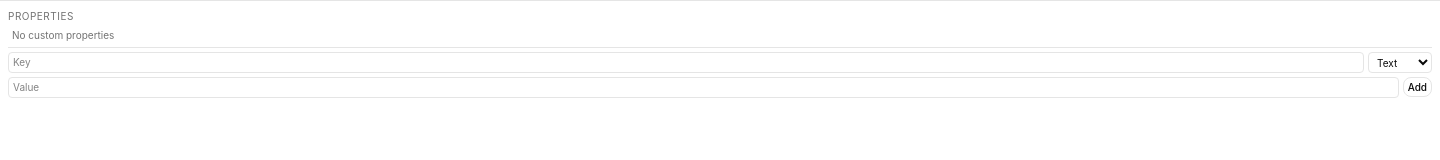
PropertiesPanel › changes value placeholder based on type selection
Select "Num" in the dropdown at (1400, 62), box [1368, 52, 1432, 73]
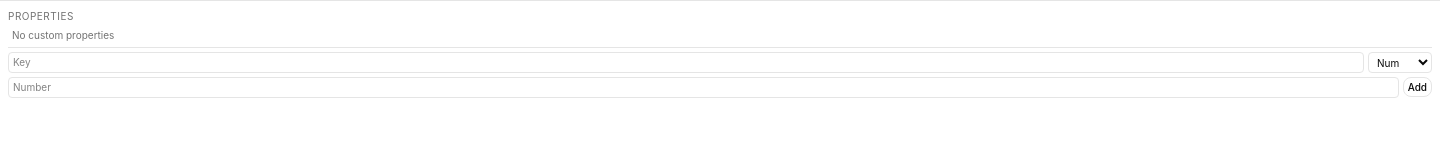
Now the field with placeholder "Number" is shown, box [8, 77, 1399, 98]
Select "Bool" in the dropdown at (1400, 62), box [1368, 52, 1432, 73]
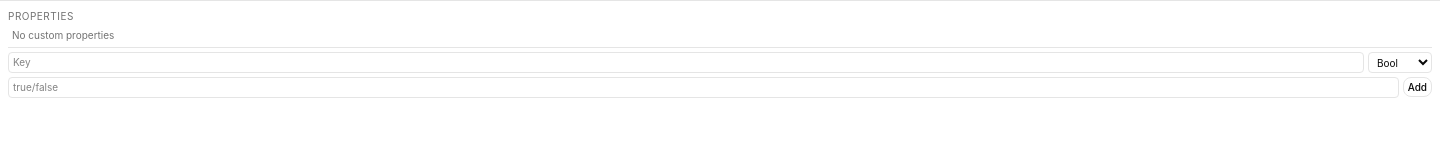
Now the field with placeholder "true/false" is shown, box [8, 77, 1399, 98]
